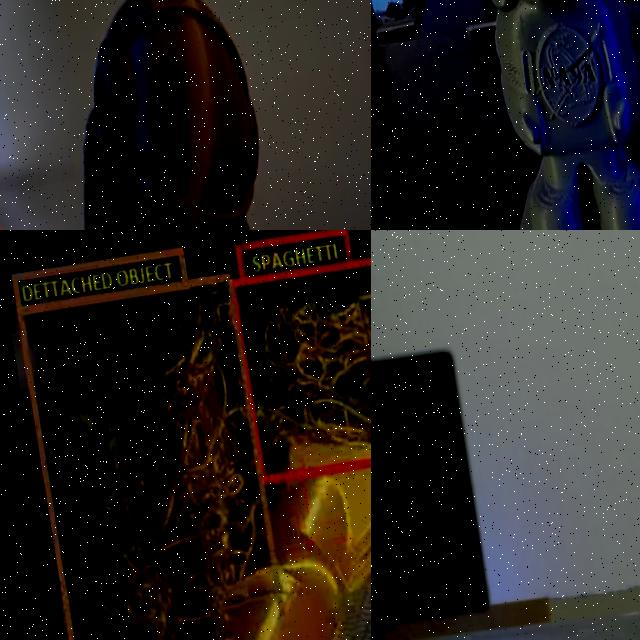spaghetti: (29, 292, 286, 640), (236, 265, 371, 471)
